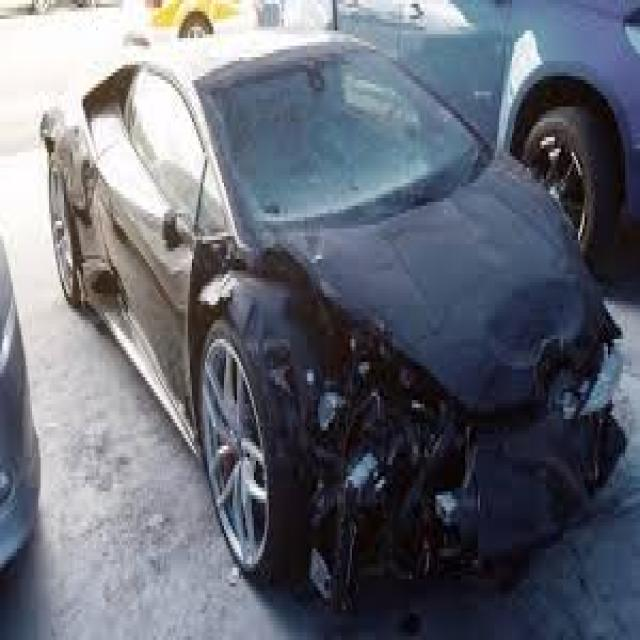severe: (212, 238, 627, 585)
